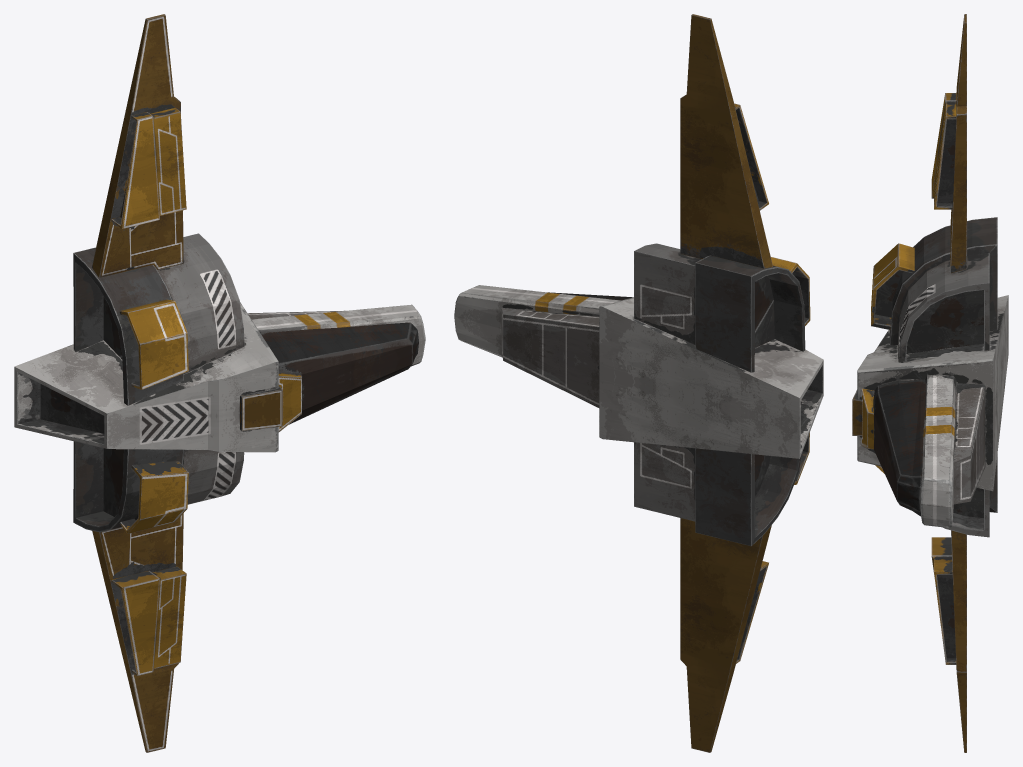
The model's file is SM_Fighter_Drone.obj.
The picture shows the model from 3 angles, left to right: view 1: azimuth 30°, elevation 25°; view 2: azimuth 150°, elevation 25°; view 3: azimuth 270°, elevation 25°; orthographic projection.
Parts seen in each view (by area): view 1: SM_Fighter_Drone; view 2: SM_Fighter_Drone; view 3: SM_Fighter_Drone.
Boxes of the visible parts, x1,y1,x2,y2 form: SM_Fighter_Drone: (14,14,425,752); SM_Fighter_Drone: (454,14,823,752); SM_Fighter_Drone: (852,14,1008,752).
Bounding box in the file's own units: 477 × 893 × 173.
1 material, 1 textured.
